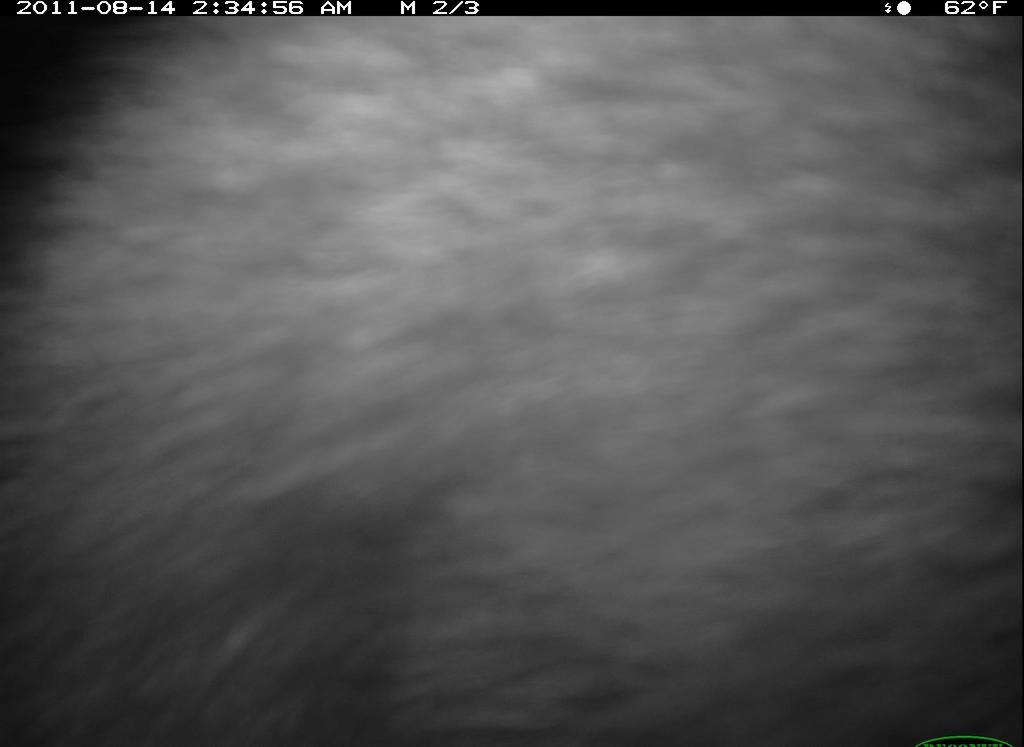raccoon: (1, 1, 1022, 743)
